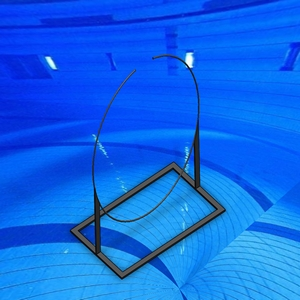circle: (69, 54, 227, 279)
